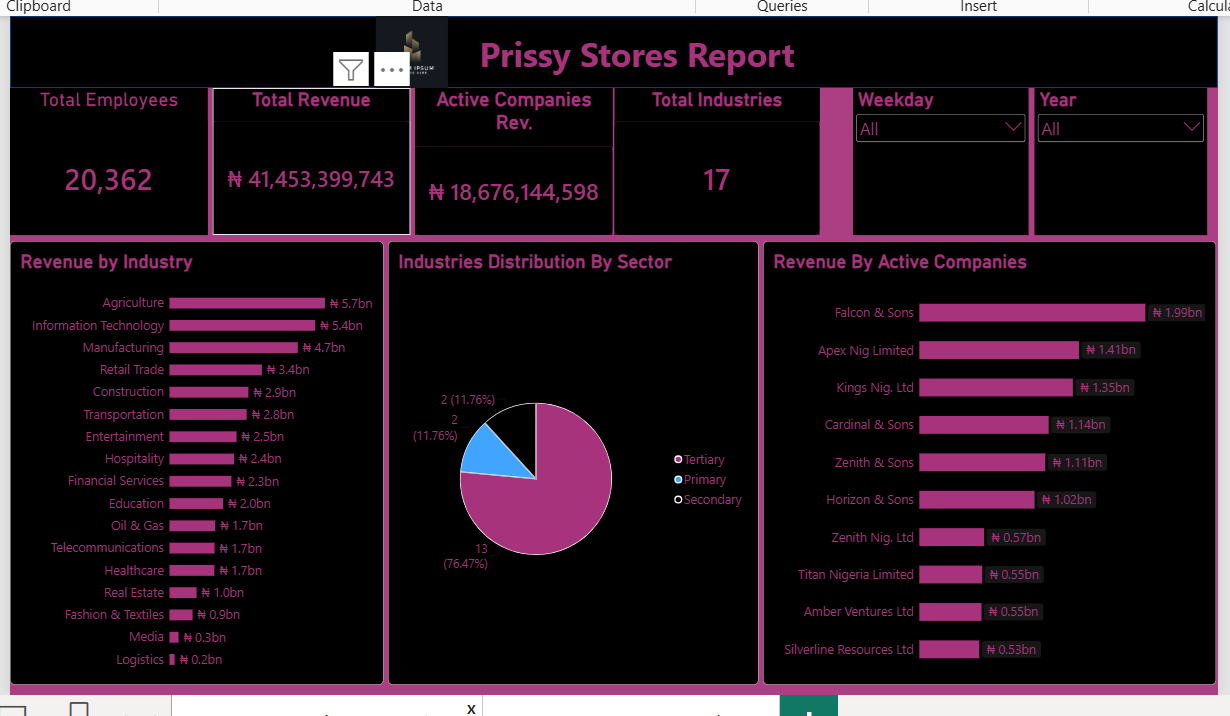

The dashboard page shown, as its layout file describes it:
{"tool":"powerbi","page":{"name":"Company & Industry Overview","canvas":[1920,1080],"ordinal":0},"visuals":[{"type":"shape","box":[0,0,1920.7,114.5],"z":0},{"type":"textbox","box":[706.2,23.9,582.2,90.7],"z":1000},{"type":"image","box":[250.5,0,777.8,114.5],"z":2000},{"type":"cardVisual","title":"Total Employees","fields":{"Data":["Measures (2).Total_employee_count"]},"box":[0,114.5,314.9,233.8],"z":3000},{"type":"cardVisual","title":"Total Revenue","fields":{"Data":["Measures (2).Total_revenue"]},"box":[322.1,114.5,314.9,233.8],"z":4000},{"type":"cardVisual","title":"Active Companies Rev.","fields":{"Data":["Measures (2).Active_companies_revenue"]},"box":[644.2,114.5,314.9,233.8],"z":5000},{"type":"cardVisual","title":"Total Industries","fields":{"Data":["Measures (2).Total_number_idustries"]},"box":[961.5,114.5,326.9,233.8],"z":6000},{"type":"barChart","title":"Revenue by Industry","fields":{"Category":["Combined Table.Industry.Industry"],"Y":["Measures (2).Total_revenue"]},"box":[0,357.9,594.1,706.2],"z":7000},{"type":"pieChart","title":"Industries Distribution By Sector","fields":{"Category":["Combined Table.Industry.Sector_Group"],"Y":["Measures (2).Total_number_idustries"]},"box":[601.3,357.9,589.3,706.2],"z":8000},{"type":"barChart","title":"Revenue By Active Companies  ","fields":{"Category":["Combined Table.Company_Name"],"Y":["Measures (2).Active_companies_revenue"]},"box":[1197.7,357.9,720.5,706.2],"z":9000},{"type":"slicer","fields":{"Values":["Combined Table.Date.Weekday_Name"]},"box":[1340.9,114.5,279.2,233.8],"z":10000},{"type":"slicer","fields":{"Values":["Combined Table.Date.Year"]},"box":[1629.6,114.5,274.4,233.8],"z":11000}]}

Visuals, with their boxes in screenshot pixels (x1, y1, x2, y2):
shape: pyautogui.locateOnScreen(6, 13, 1220, 85)
textbox: pyautogui.locateOnScreen(453, 28, 820, 85)
image: pyautogui.locateOnScreen(165, 13, 656, 85)
"Total Employees" cardVisual: pyautogui.locateOnScreen(6, 85, 205, 233)
"Total Revenue" cardVisual: pyautogui.locateOnScreen(210, 85, 409, 233)
"Active Companies Rev." cardVisual: pyautogui.locateOnScreen(413, 85, 612, 233)
"Total Industries" cardVisual: pyautogui.locateOnScreen(614, 85, 820, 233)
"Revenue by Industry" barChart: pyautogui.locateOnScreen(6, 239, 382, 685)
"Industries Distribution By Sector" pieChart: pyautogui.locateOnScreen(386, 239, 759, 685)
"Revenue By Active Companies  " barChart: pyautogui.locateOnScreen(763, 239, 1218, 685)
slicer - Combined Table.Date.Weekday_Name: pyautogui.locateOnScreen(854, 85, 1030, 233)
slicer - Combined Table.Date.Year: pyautogui.locateOnScreen(1036, 85, 1209, 233)
